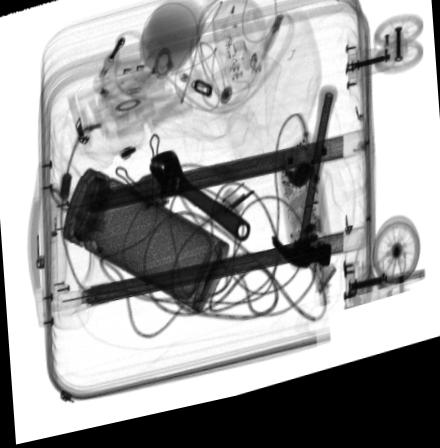Hammer: (268, 99, 338, 282)
Wrench: (146, 155, 251, 251)
